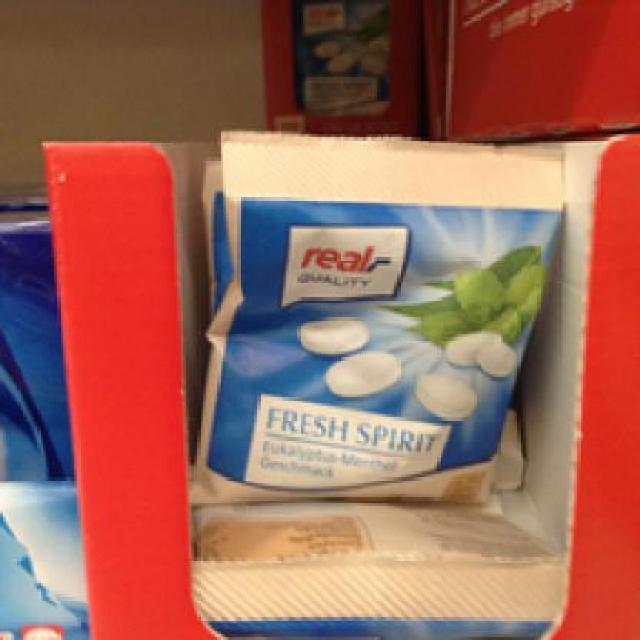Candy: (197, 122, 557, 575)
